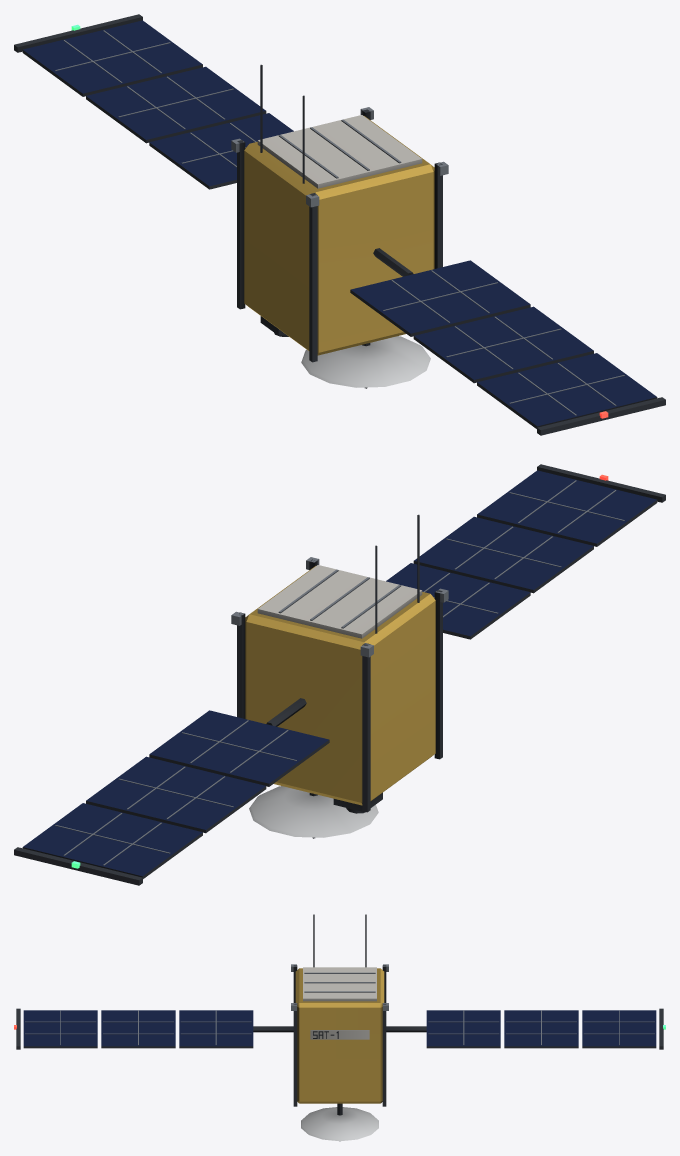
The model's file is satellite.glb.
3 renders of one model, top to bottom at view 1: azimuth 30°, elevation 25°; view 2: azimuth 150°, elevation 25°; view 3: azimuth 270°, elevation 25°, orthographic. The views are drawn at different scales.
Visible parts, largest first — view 1: Body, Wing_R, Wing_L, Dish; view 2: Body, Wing_L, Wing_R, Dish; view 3: Body, Wing_L, Wing_R, Dish.
Part boxes in pixels (x1,y1,x2,y2): Body: [231, 64, 448, 362]; Wing_R: [350, 248, 665, 435]; Wing_L: [14, 14, 293, 189]; Dish: [301, 336, 430, 388]; Body: [231, 514, 448, 813]; Wing_L: [14, 698, 329, 885]; Wing_R: [386, 464, 665, 639]; Dish: [249, 786, 378, 838]; Body: [291, 914, 388, 1106]; Wing_L: [386, 1008, 665, 1049]; Wing_R: [14, 1008, 293, 1049]; Dish: [301, 1103, 378, 1141].
Bounding box in the file's own units: 1.45 × 3 × 8.8.
